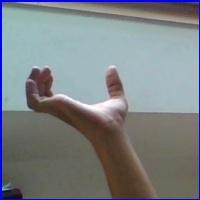B: (22, 58, 134, 138)
